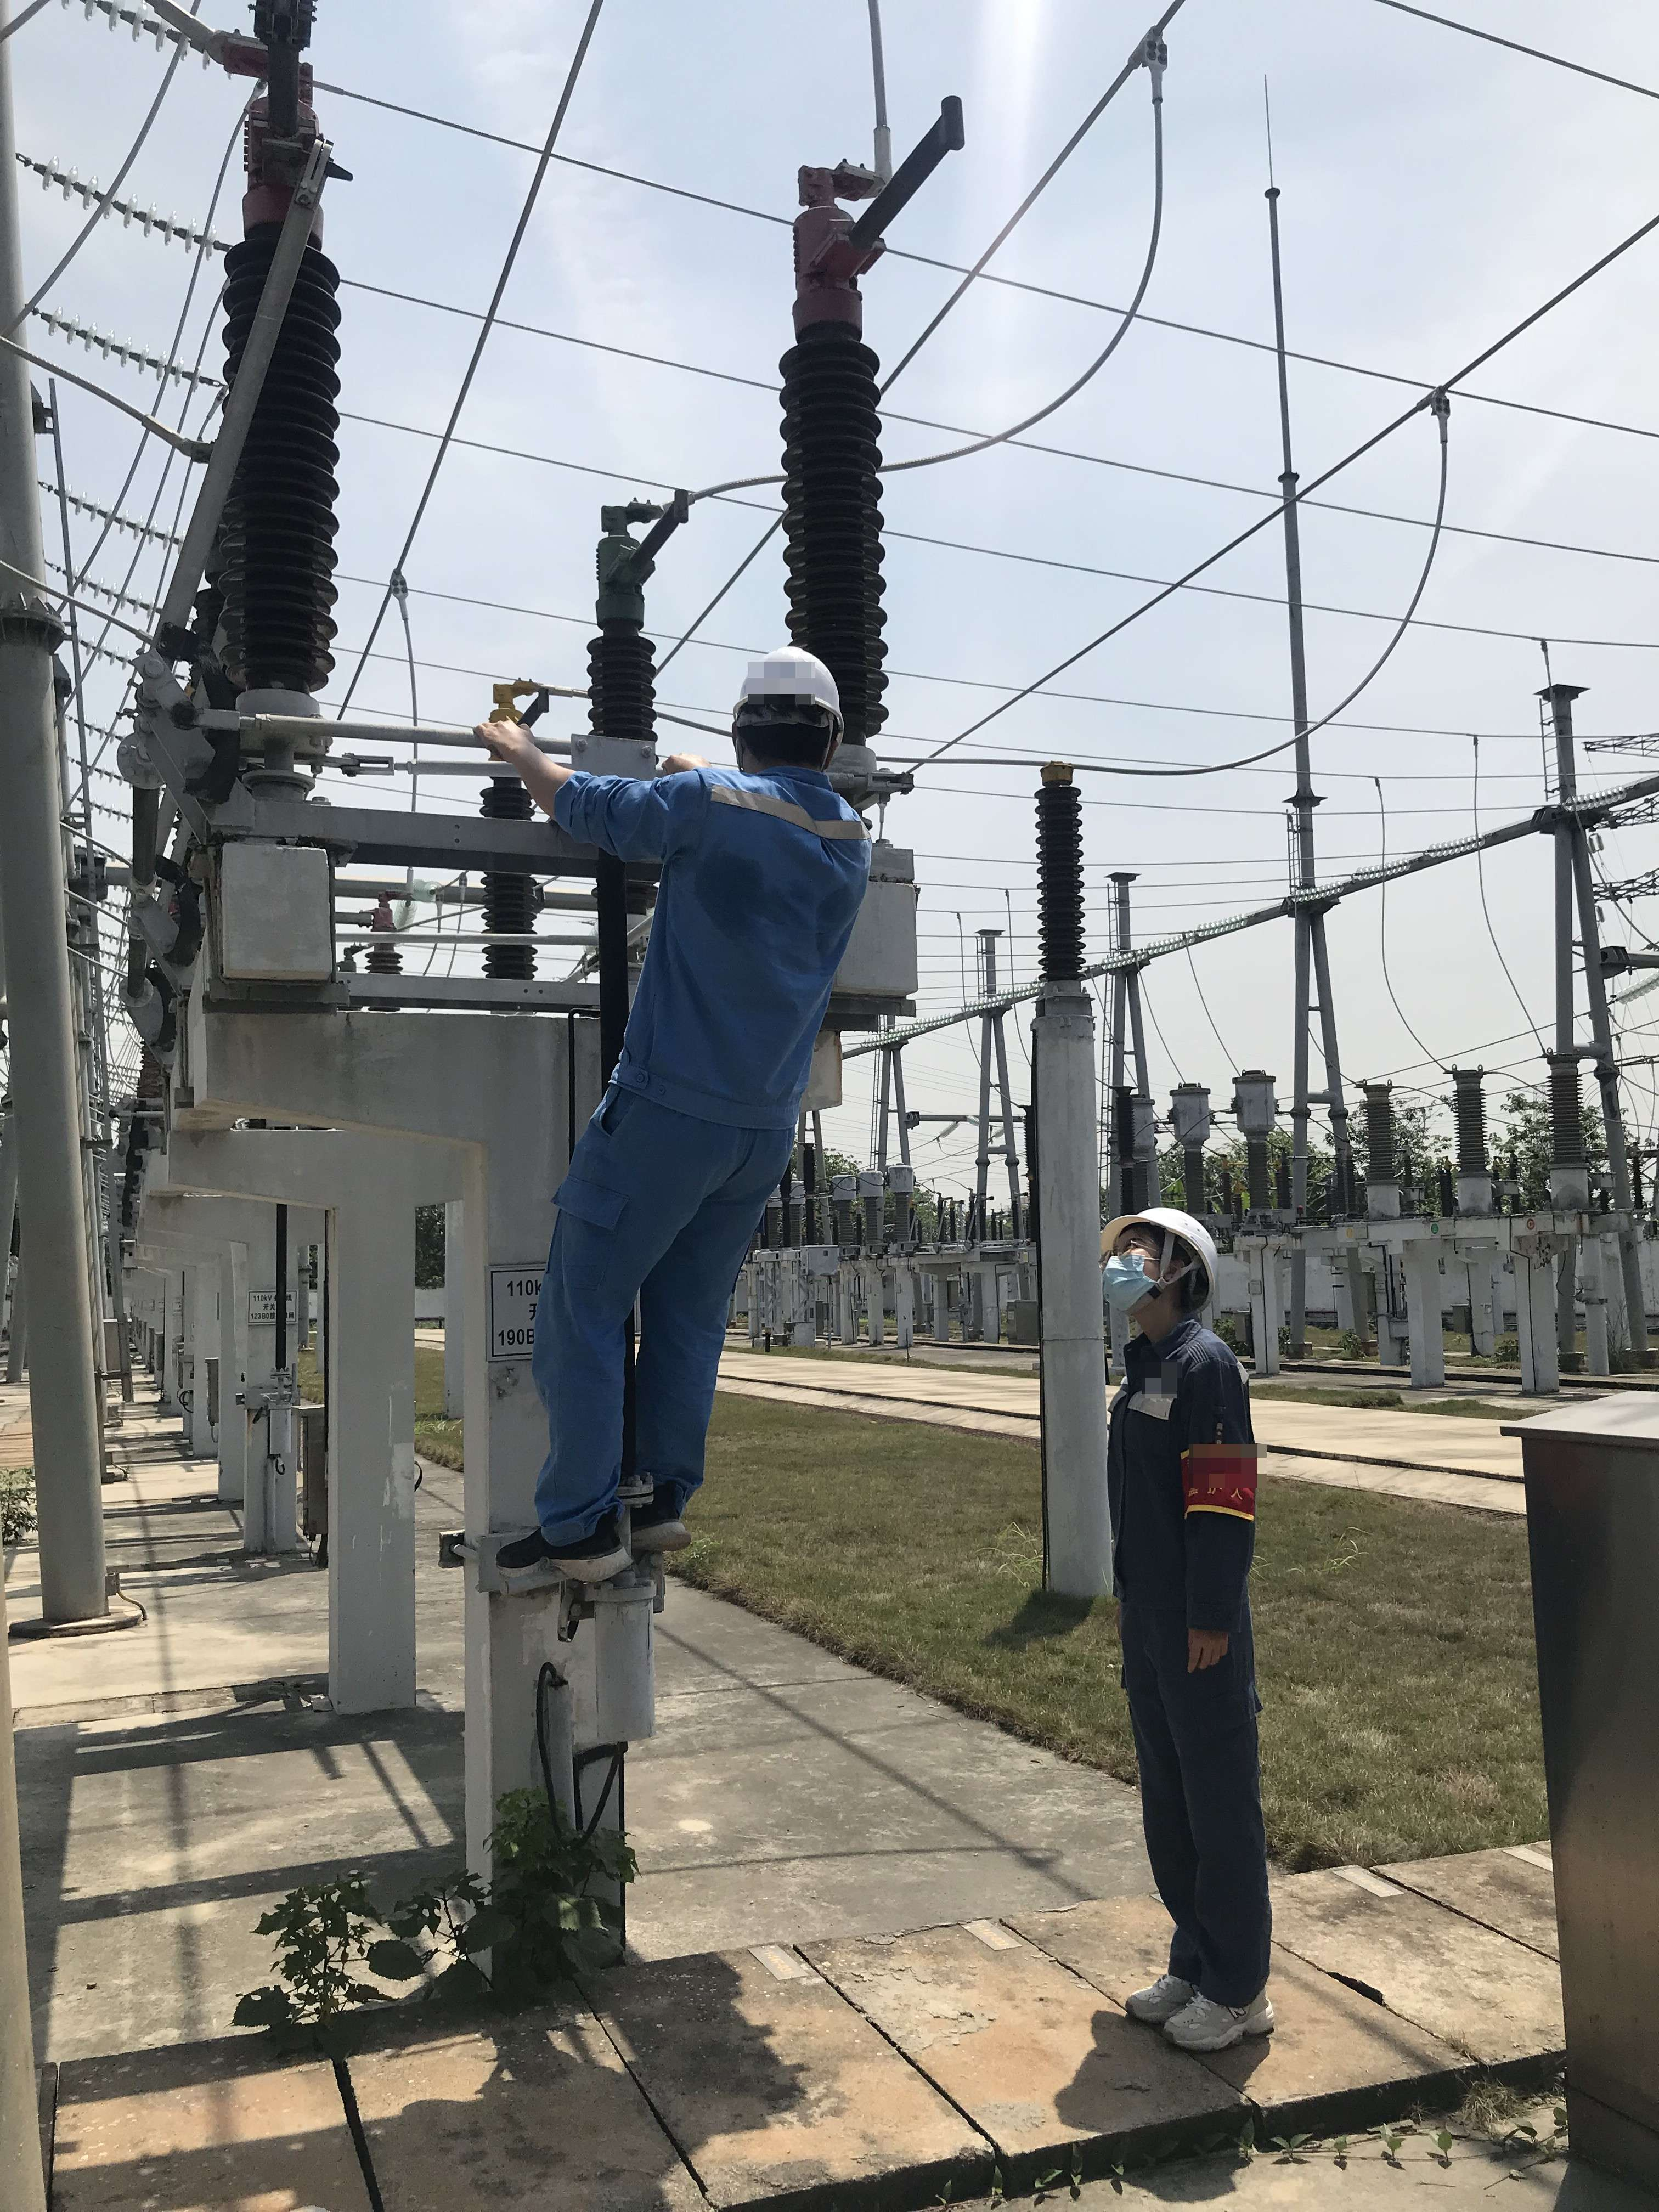downsuit: (528, 1137, 800, 1547), (1134, 1665, 1284, 1977)
upsuit: (554, 756, 889, 1120), (1107, 1327, 1269, 1642)
wrongtop: (472, 700, 587, 822)
